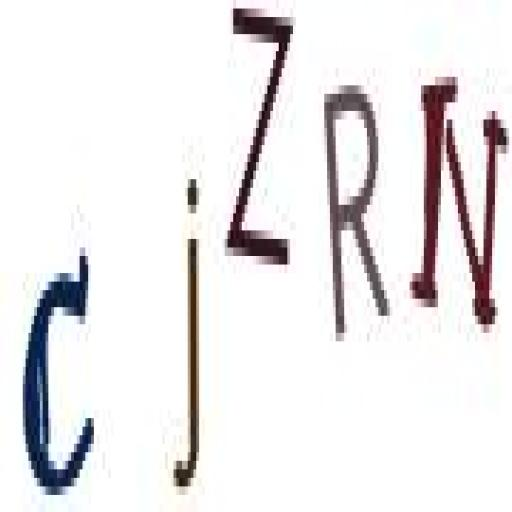N: (414, 54, 506, 349)
R: (319, 68, 394, 340)
Z: (222, 4, 295, 276)
c: (21, 244, 101, 502)
j: (166, 158, 210, 498)
